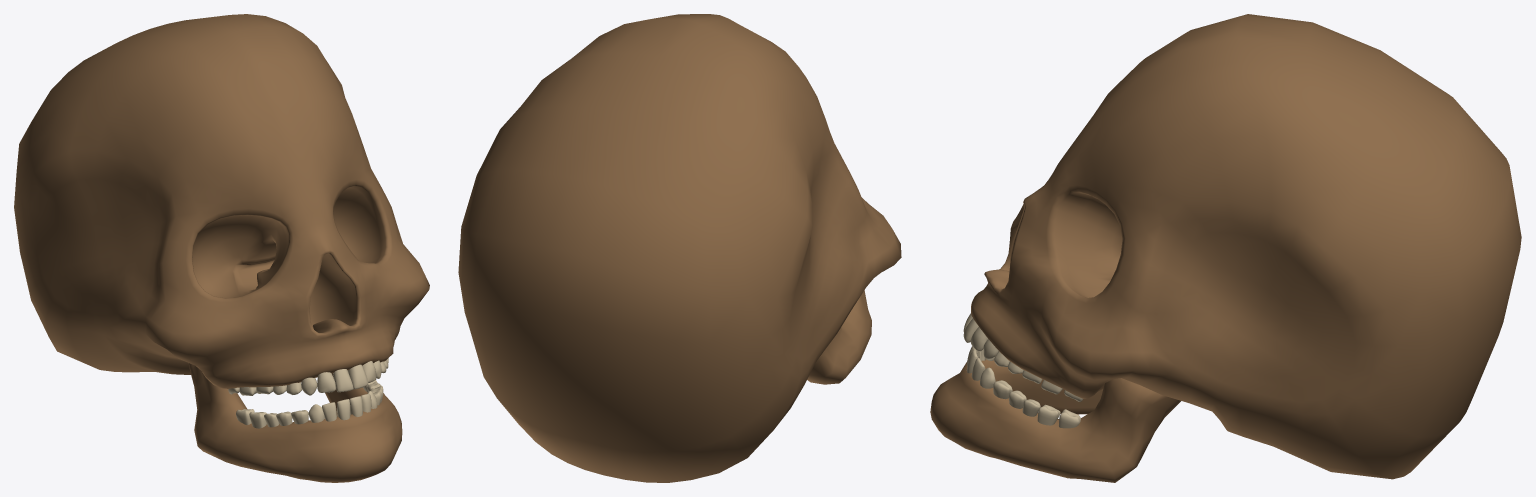
Rendered from skull.dae.
3 views of the same model, side by side, from view 1: azimuth 30°, elevation 25°; view 2: azimuth 150°, elevation 25°; view 3: azimuth 270°, elevation 25° (orthographic). The views are drawn at different scales.
Parts seen in each view (by area): view 1: Skull; view 2: Skull; view 3: Skull.
Boxes of the visible parts, x1,y1,x2,y2 form: Skull: (14, 14, 429, 482); Skull: (458, 14, 901, 482); Skull: (930, 14, 1521, 482).
Bounding box in the file's own units: 0.0463 × 0.0703 × 0.0544.
